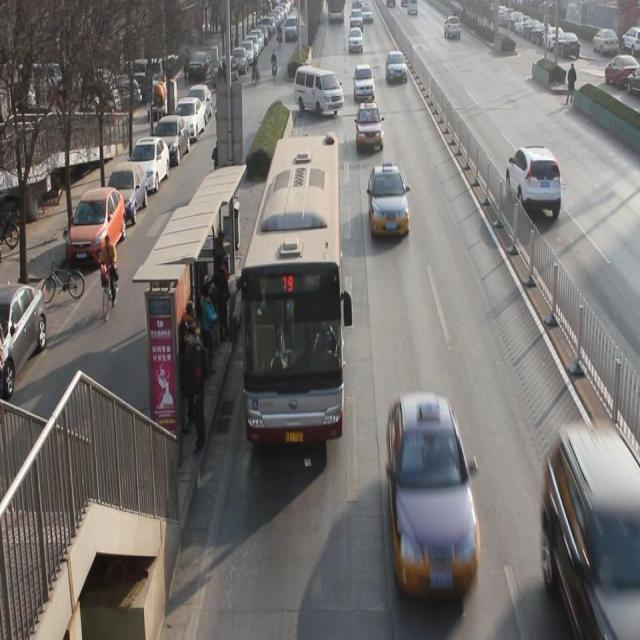car: (550, 436, 640, 628), (508, 146, 564, 222), (367, 160, 414, 243), (353, 102, 385, 154), (301, 63, 319, 117), (386, 48, 409, 89), (353, 64, 376, 102), (347, 28, 365, 56), (444, 16, 464, 41)
truck: (388, 407, 482, 585), (296, 66, 344, 122)
van: (241, 137, 345, 441)
